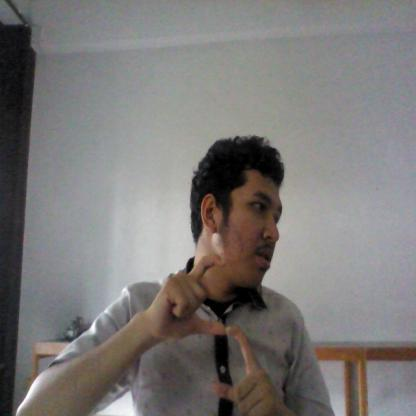S: (143, 241, 281, 415)
